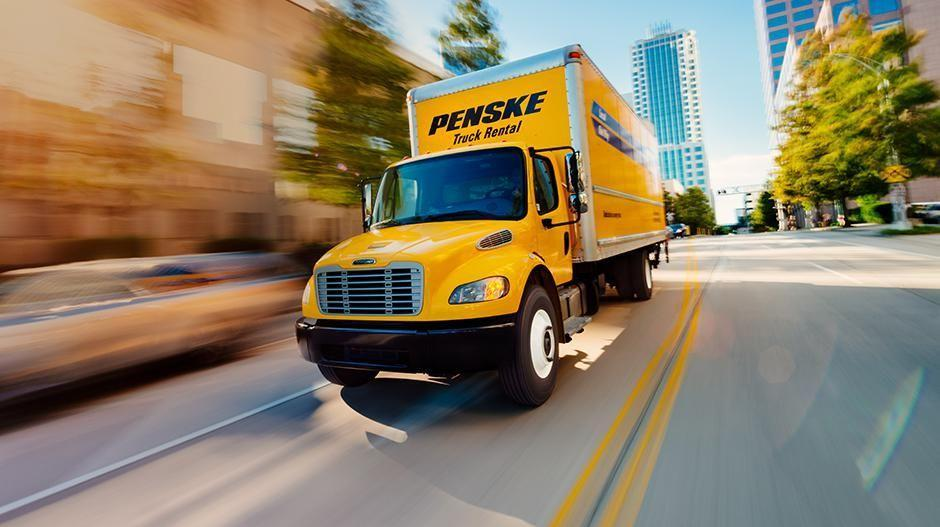truck: (293, 41, 667, 408)
